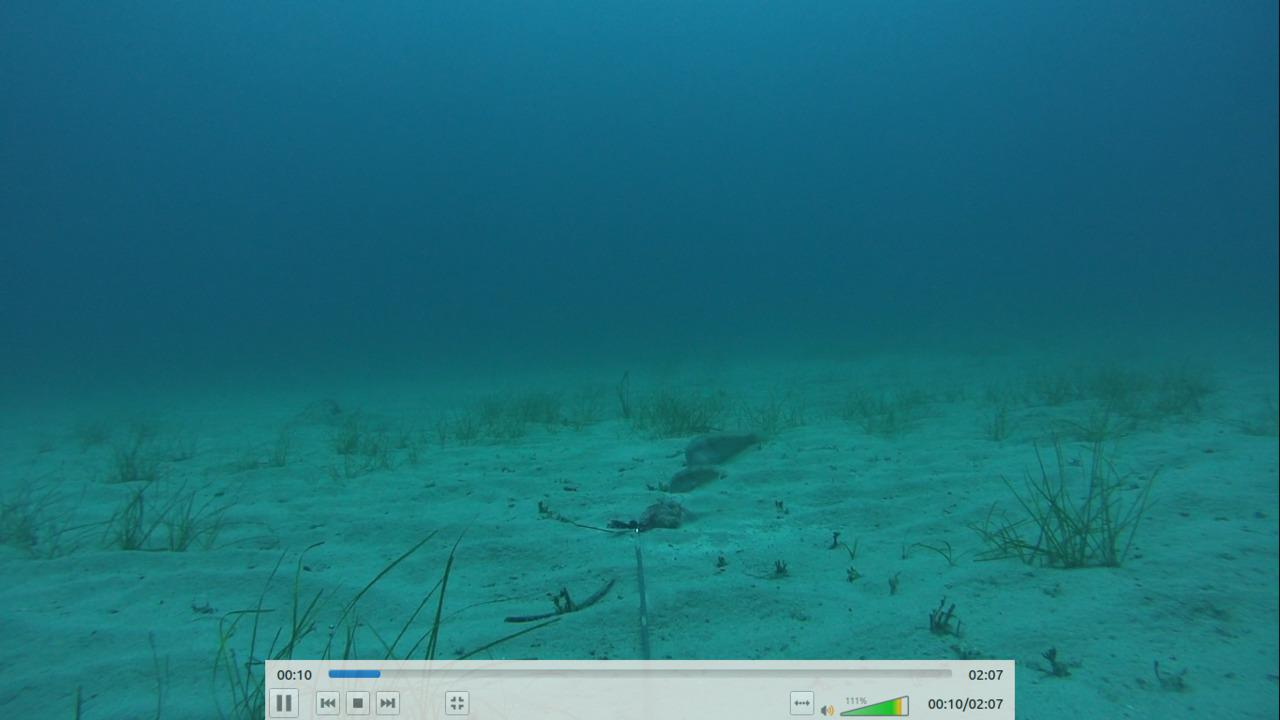raor: (677, 429, 772, 467), (649, 463, 728, 497)
